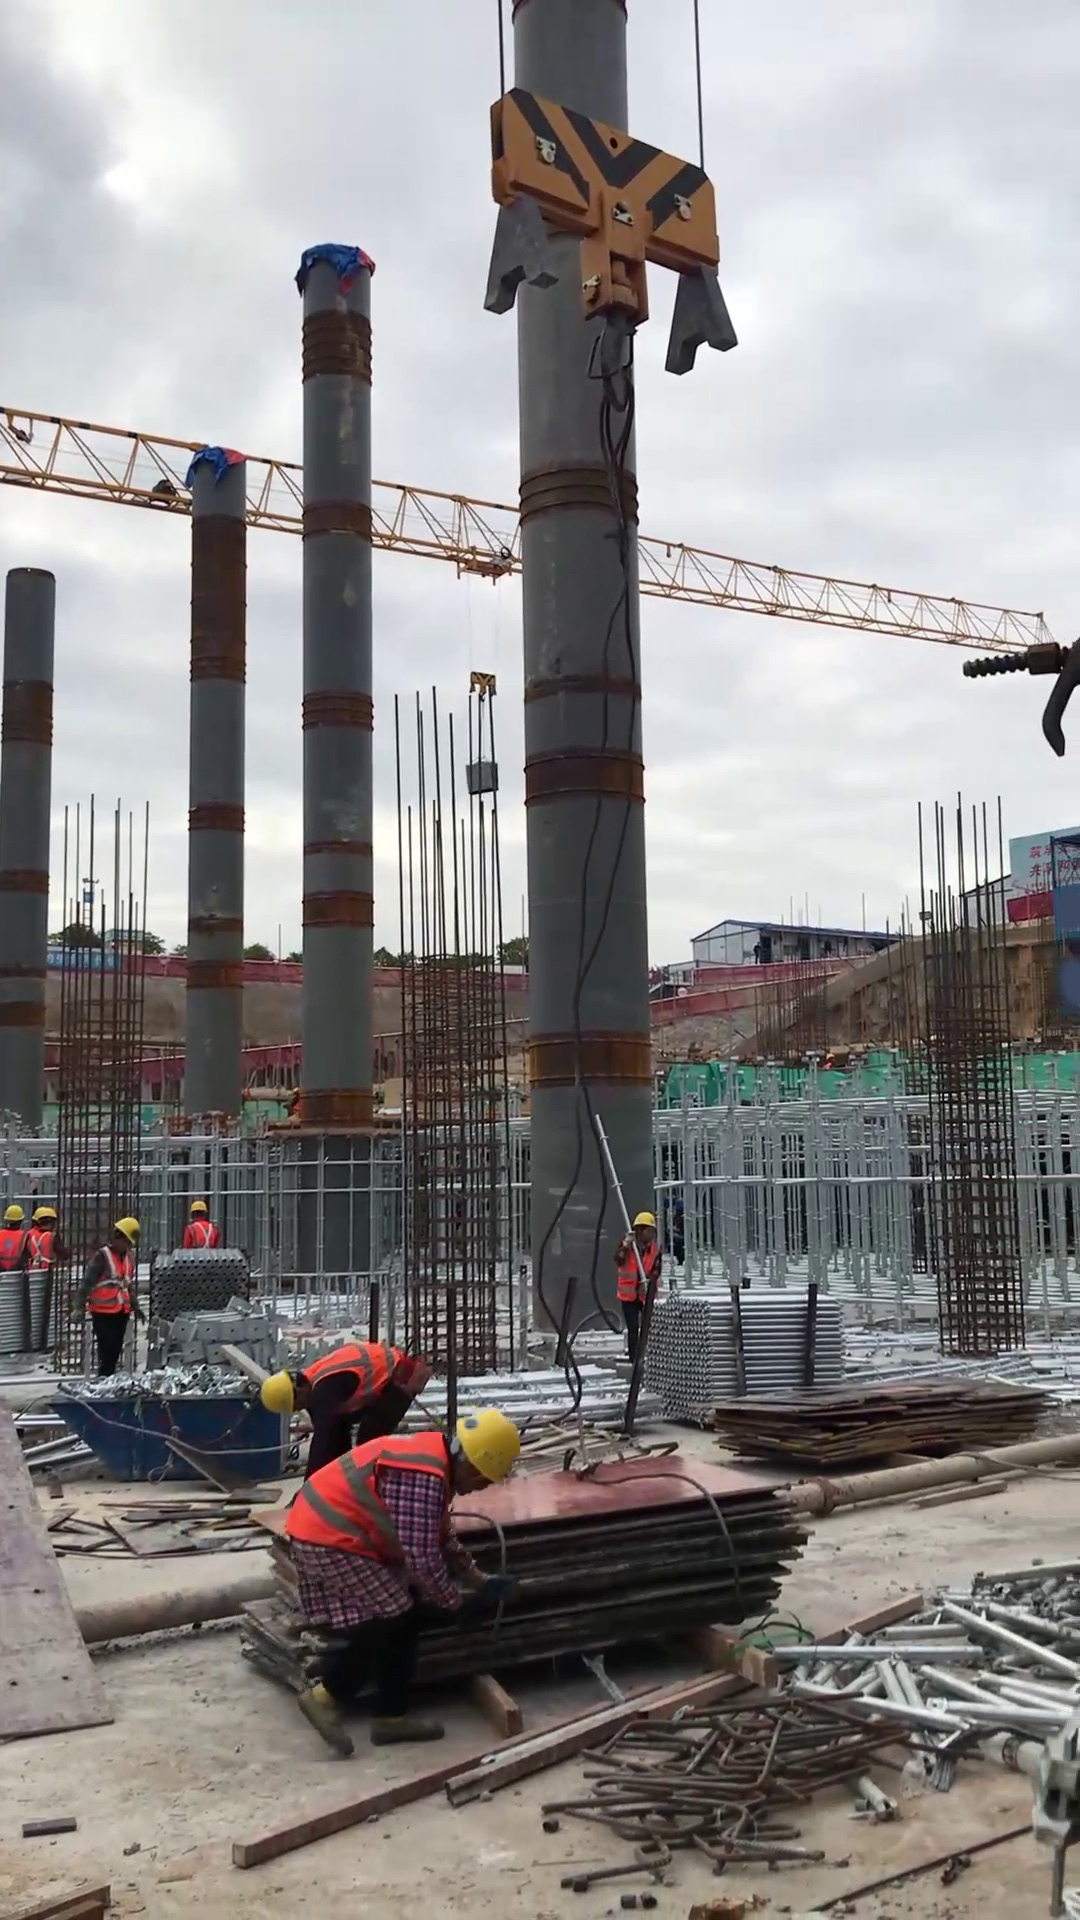board: (392, 1451, 816, 1694), (699, 1360, 1059, 1489)
helmet: (451, 1406, 524, 1494), (265, 1371, 300, 1424), (112, 1214, 144, 1247), (625, 1208, 661, 1236), (1, 1201, 25, 1231), (30, 1204, 57, 1229), (187, 1196, 210, 1217)
hook: (464, 82, 749, 437), (466, 663, 509, 708)
hopper: (71, 1387, 297, 1484)
person: (267, 1403, 529, 1763), (260, 1336, 433, 1492), (68, 1215, 149, 1382), (607, 1208, 672, 1382), (26, 1203, 67, 1275), (175, 1196, 222, 1256), (1, 1197, 30, 1279)
scaffold: (650, 1284, 852, 1423), (150, 1242, 252, 1324)
vest: (280, 1426, 447, 1571), (301, 1336, 418, 1413), (85, 1247, 143, 1322), (615, 1242, 661, 1308), (183, 1217, 215, 1254), (30, 1229, 57, 1272), (1, 1235, 26, 1271)
